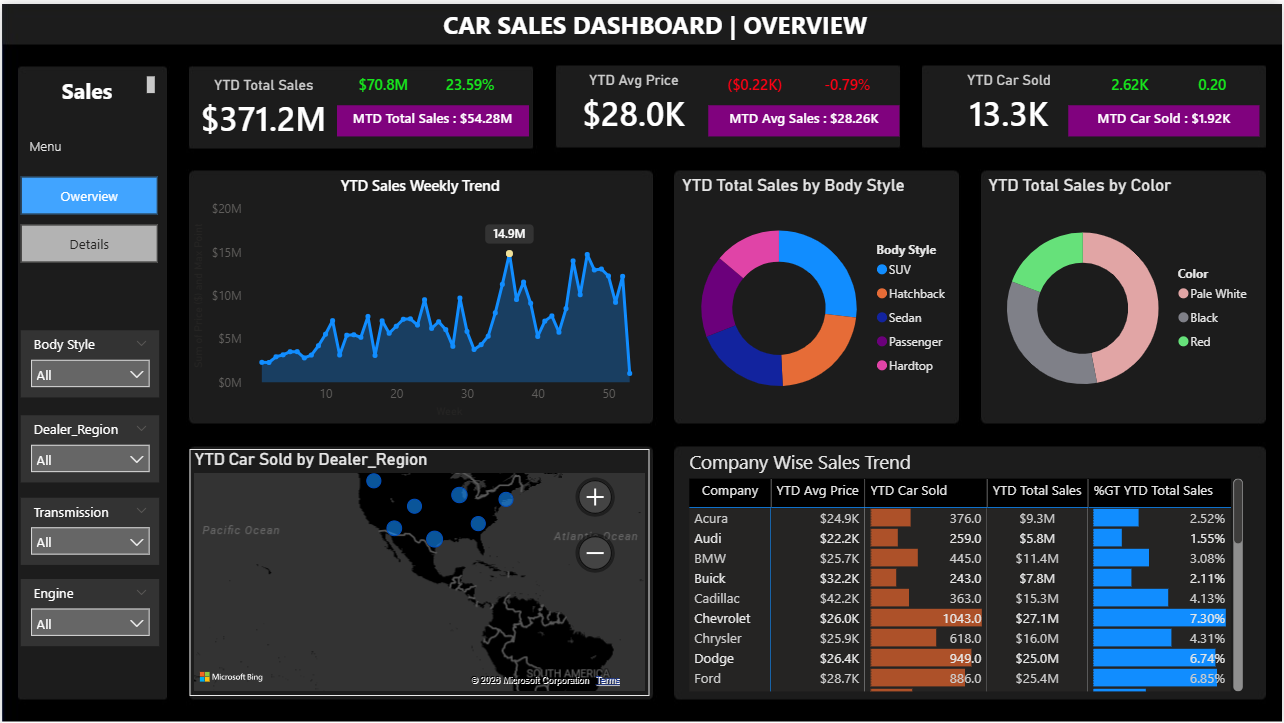

Layout of this report page (visuals, bound fields, positions):
{"tool":"powerbi","page":{"name":"Owerview","canvas":[1280,720],"ordinal":0},"visuals":[{"type":"card","title":"YTD Total Sales","fields":{"Values":["car_data.YTD Total Sales"]},"box":[187,72.4,148.4,66.4],"z":0},{"type":"card","title":"PYTD Total Sales","fields":{"Values":["car_data.Sales Difference"]},"box":[335.4,65.1,92.9,36.2],"z":1000},{"type":"card","title":"PYTD Total Sales","fields":{"Values":["car_data.YOY Sales Growth"]},"box":[419.8,65.1,96.5,36.2],"z":2000},{"type":"card","fields":{"Values":["car_data.MTD KPI"]},"box":[335.4,101.3,191.8,31.4],"z":3000},{"type":"card","title":"YTD Avg Price","fields":{"Values":["car_data.YTD Avg Price"]},"box":[557,68,148.7,66.8],"z":4000},{"type":"card","title":"PYTD Total Sales","fields":{"Values":["car_data.Avg Price Diff"]},"box":[705.7,65.5,93.2,35.3],"z":5000},{"type":"card","title":"PYTD Total Sales","fields":{"Values":["car_data.YOY Avg Price"]},"box":[798.9,65.5,93.2,35.3],"z":6000},{"type":"card","fields":{"Values":["car_data.MTD Avg Price KPI"]},"box":[705.7,100.8,191.5,31.5],"z":7000},{"type":"card","title":"YTD Car Sold","fields":{"Values":["car_data.YTD Car Sold"]},"box":[932.5,68,148.7,66.8],"z":8000},{"type":"card","title":"PYTD Total Sales","fields":{"Values":["car_data.Car Sold Diff"]},"box":[1081.2,65.5,93.2,35.3],"z":9000},{"type":"card","title":"PYTD Total Sales","fields":{"Values":["car_data.YOY Car Sold Growth"]},"box":[1164.3,65.5,93.2,35.3],"z":10000},{"type":"card","fields":{"Values":["car_data.MTD Car Sold KPI"]},"box":[1066,100.8,191.5,31.5],"z":11000},{"type":"areaChart","title":"YTD  Sales Weekly Trend","fields":{"Category":["Calender Table.Week"],"Y":["Sum(car_data.Price ($))","car_data.Max Point"]},"box":[186.5,171.4,463.7,247],"z":12000},{"type":"donutChart","fields":{"Category":["car_data.Body Style"],"Y":["car_data.YTD Total Sales"]},"box":[674.4,171.3,282.3,247.3],"z":13000},{"type":"donutChart","title":"YTD Total Sales by Color","fields":{"Category":["car_data.Color"],"Y":["car_data.YTD Total Sales"]},"box":[980.8,171.3,277.5,247.3],"z":14000},{"type":"map","fields":{"Size":["car_data.YTD Car Sold"],"Category":["car_data.Dealer_Region"]},"box":[187.2,445.4,460.5,247.6],"z":15000},{"type":"pivotTable","title":"Company Wise Sales Trend","fields":{"Rows":["car_data.Company"],"Values":["car_data.YTD Avg Price","car_data.YTD Car Sold","car_data.YTD Total Sales1","car_data.YTD Total Sales"]},"box":[682.4,445.4,563.2,247.6],"z":16000},{"type":"textbox","box":[436.7,0,495.8,45.8],"z":17000},{"type":"slicer","fields":{"Values":["car_data.Body Style"]},"box":[19.3,325.7,138.7,67.6],"z":18000},{"type":"slicer","fields":{"Values":["car_data.Dealer_Region"]},"box":[19.3,411.4,138.7,67.6],"z":19000},{"type":"slicer","fields":{"Values":["car_data.Transmission"]},"box":[19.3,493.4,138.7,67.6],"z":20000},{"type":"slicer","fields":{"Values":["car_data.Engine"]},"box":[19.3,575.5,138.7,67.6],"z":21000},{"type":"textbox","box":[20.5,67.6,137.5,41],"z":22000},{"type":"textbox","box":[22.9,127.9,70,32.6],"z":23000},{"type":"pageNavigator","box":[18.8,172.5,137.5,87.5],"z":24000}]}

Visuals, with their boxes in screenshot pixels (x1, y1, x2, y2), scaled from the page's 1280x720 canvas onto the 1284x723 screenshot:
"YTD Total Sales" card: (left=188, top=73, right=336, bottom=139)
"PYTD Total Sales" card: (left=336, top=65, right=430, bottom=102)
"PYTD Total Sales" card: (left=421, top=65, right=518, bottom=102)
card - car_data.MTD KPI: (left=336, top=102, right=529, bottom=133)
"YTD Avg Price" card: (left=559, top=68, right=708, bottom=135)
"PYTD Total Sales" card: (left=708, top=66, right=801, bottom=101)
"PYTD Total Sales" card: (left=801, top=66, right=895, bottom=101)
card - car_data.MTD Avg Price KPI: (left=708, top=101, right=900, bottom=133)
"YTD Car Sold" card: (left=935, top=68, right=1085, bottom=135)
"PYTD Total Sales" card: (left=1085, top=66, right=1178, bottom=101)
"PYTD Total Sales" card: (left=1168, top=66, right=1261, bottom=101)
card - car_data.MTD Car Sold KPI: (left=1069, top=101, right=1261, bottom=133)
"YTD  Sales Weekly Trend" areaChart: (left=187, top=172, right=652, bottom=420)
donutChart - car_data.Body Style x car_data.YTD Total Sales: (left=677, top=172, right=960, bottom=420)
"YTD Total Sales by Color" donutChart: (left=984, top=172, right=1262, bottom=420)
map - car_data.YTD Car Sold x car_data.Dealer_Region: (left=188, top=447, right=650, bottom=696)
"Company Wise Sales Trend" pivotTable: (left=685, top=447, right=1249, bottom=696)
textbox: (left=438, top=0, right=935, bottom=46)
slicer - car_data.Body Style: (left=19, top=327, right=158, bottom=395)
slicer - car_data.Dealer_Region: (left=19, top=413, right=158, bottom=481)
slicer - car_data.Transmission: (left=19, top=495, right=158, bottom=563)
slicer - car_data.Engine: (left=19, top=578, right=158, bottom=646)
textbox: (left=21, top=68, right=158, bottom=109)
textbox: (left=23, top=128, right=93, bottom=161)
pageNavigator: (left=19, top=173, right=157, bottom=261)
